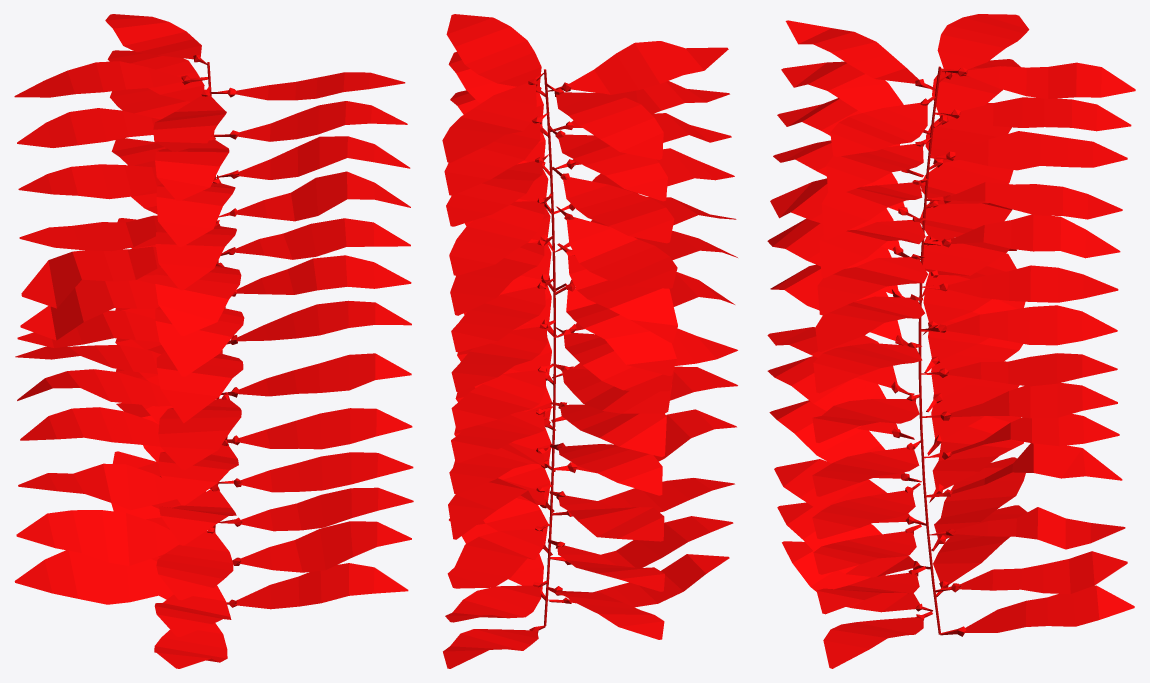
The model's file is Algas ROJAS mejorada(Sin animacion).fbx.
3 renders of one model, left to right at view 1: azimuth 30°, elevation 25°; view 2: azimuth 150°, elevation 25°; view 3: azimuth 270°, elevation 25°, orthographic.
Parts seen in each view (by area): view 1: Alga; view 2: Alga; view 3: Alga.
Part boxes in pixels (box(x1,y1,x2,y2)): Alga: box(14, 14, 413, 668); Alga: box(442, 14, 737, 668); Alga: box(767, 14, 1135, 668).
Bounding box in the file's own units: 2840 × 4999 × 2936.
